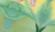Tomato Early blight leaf: (5, 0, 52, 32)
